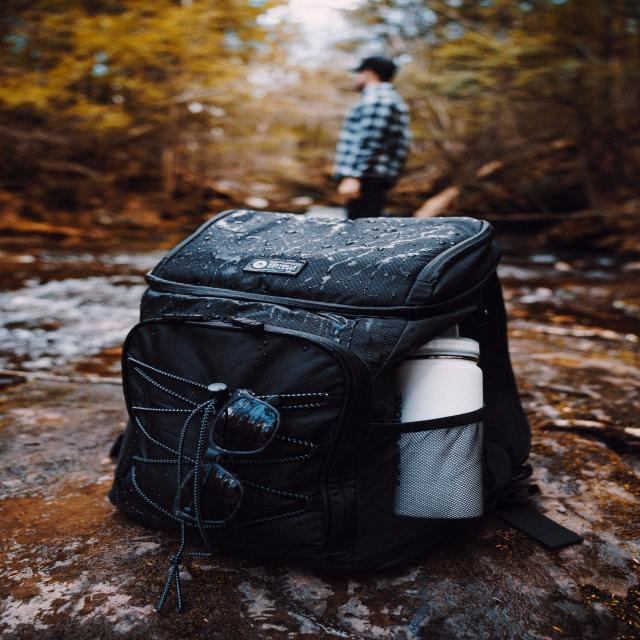backpack: (101, 199, 528, 572)
